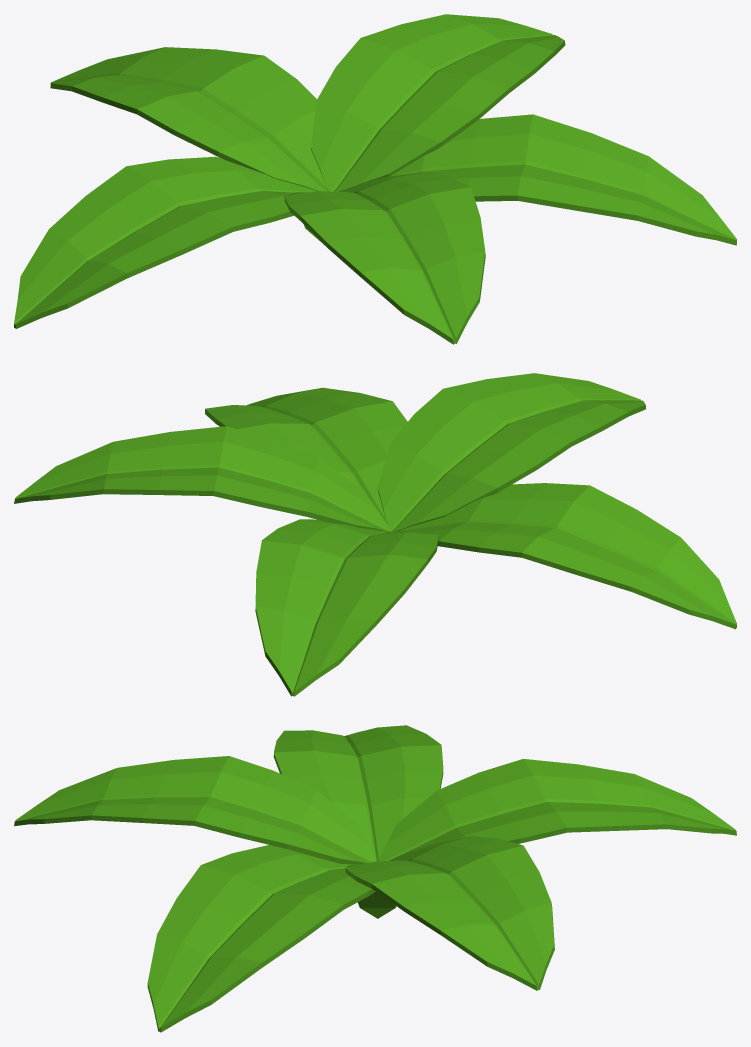
Rendered from Isl_5_Shrub_1.fbx.
The picture shows the model from 3 angles, top to bottom: view 1: azimuth 30°, elevation 25°; view 2: azimuth 150°, elevation 25°; view 3: azimuth 270°, elevation 25°; orthographic projection. The views are drawn at different scales.
Visible parts, largest first — view 1: Isl_5_Shrub_1; view 2: Isl_5_Shrub_1; view 3: Isl_5_Shrub_1.
Part boxes in pixels (left/top/right/bottom): Isl_5_Shrub_1: left=14, top=14, right=736, bottom=344; Isl_5_Shrub_1: left=14, top=373, right=736, bottom=696; Isl_5_Shrub_1: left=14, top=725, right=736, bottom=1032.
Bounding box in the file's own units: 227 × 234 × 43.64.
1 material, 1 textured.
